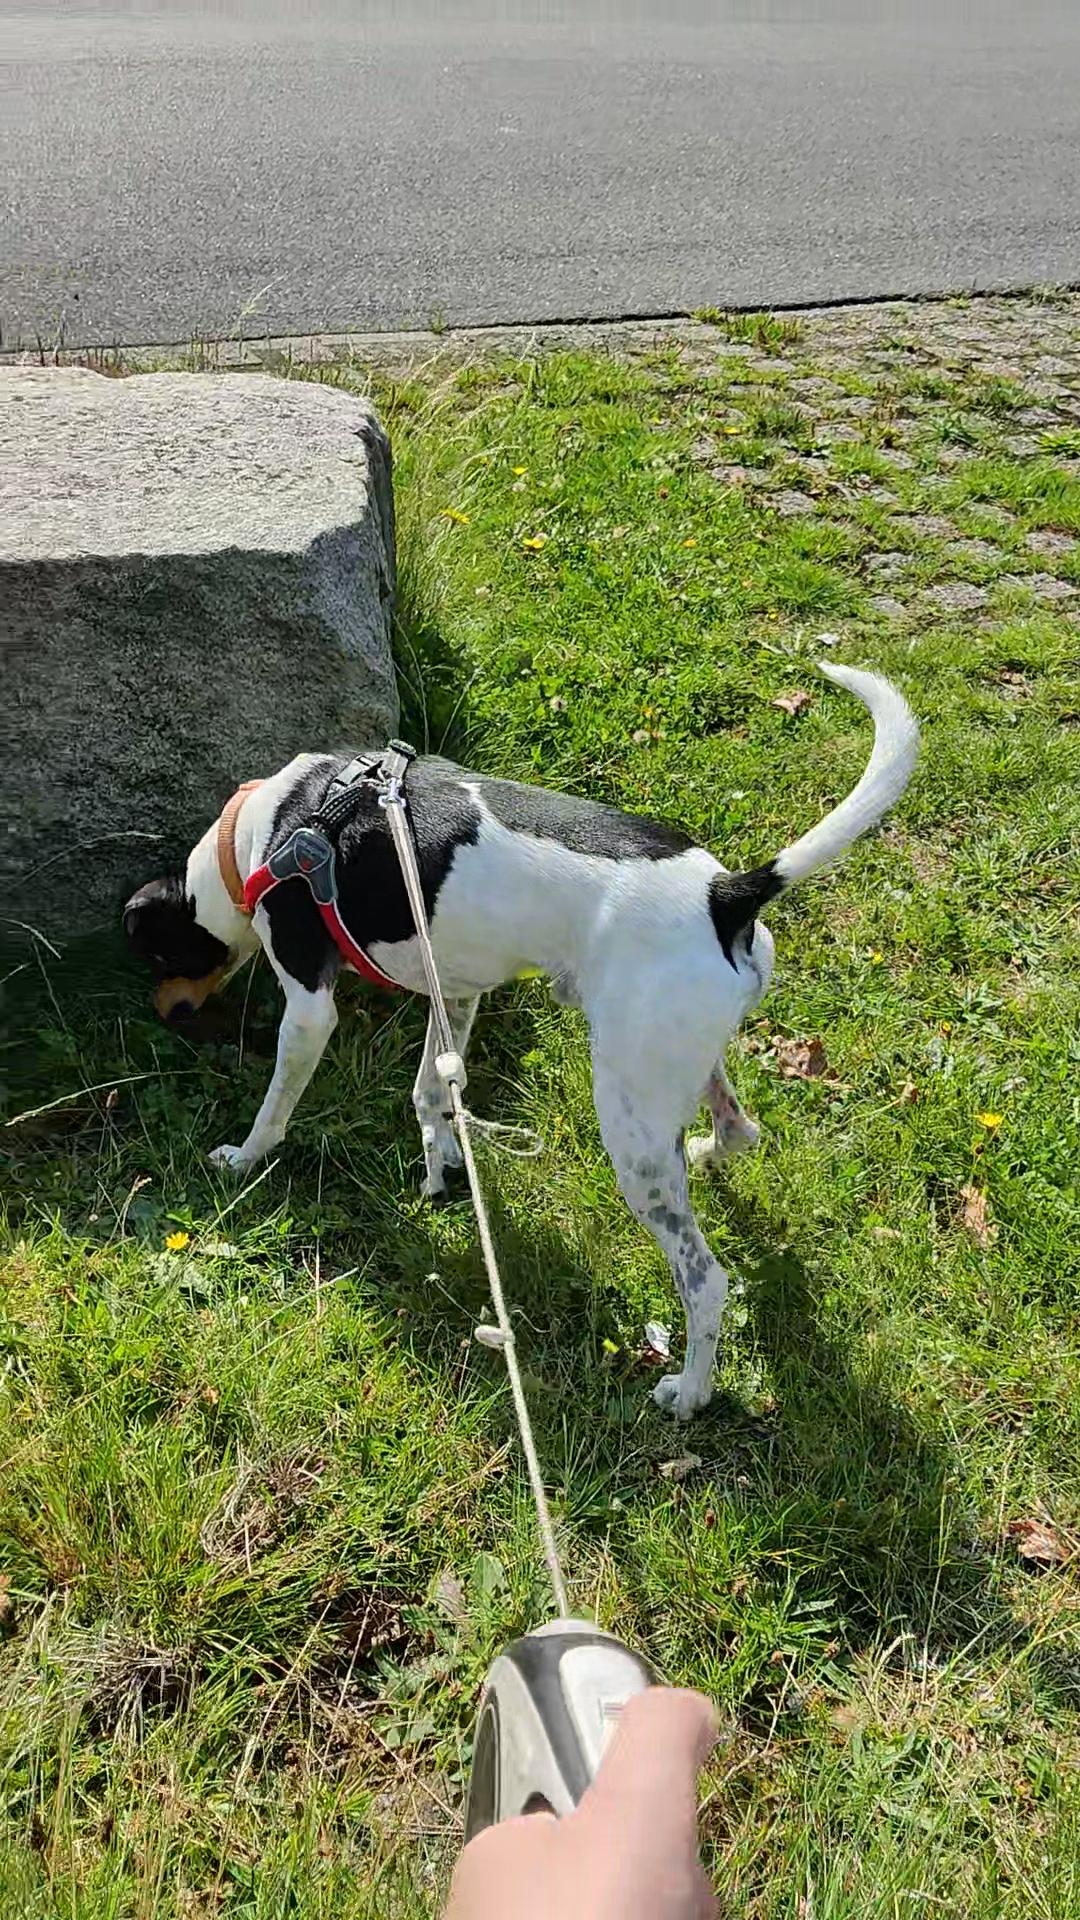Dog: (78, 588, 986, 1447)
